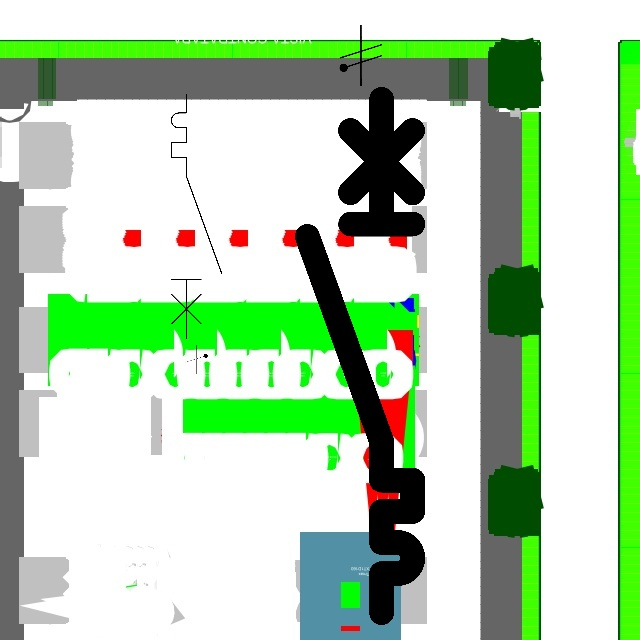interruptor_termomagnetico: (294, 86, 426, 626), (165, 88, 228, 345)
